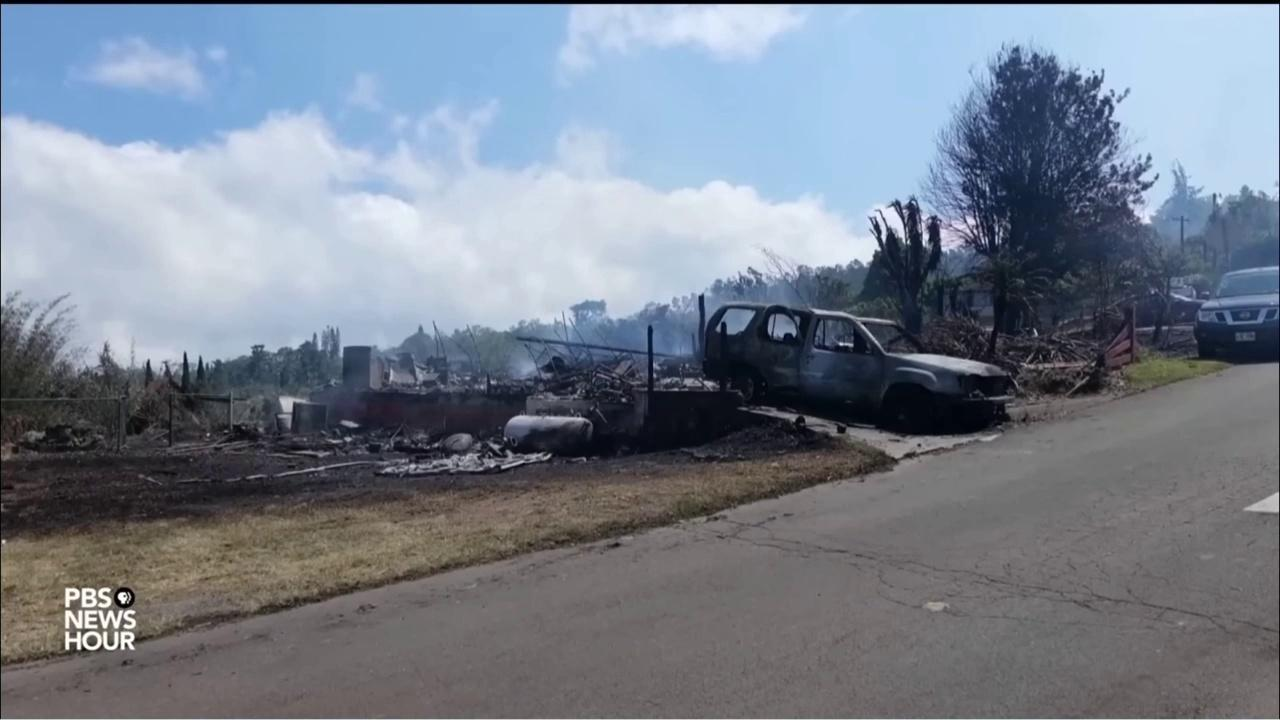smoke: (510, 281, 801, 379)
